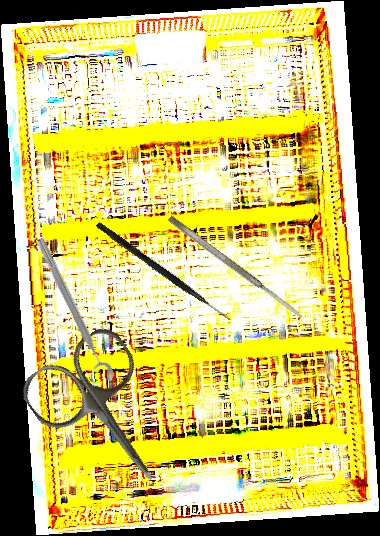Fixation Ring: (24, 235, 117, 390)
Hook Surgical: (94, 221, 234, 323)
Iris Scissors: (15, 321, 197, 513)
Spatula Surgical: (166, 214, 305, 321)
